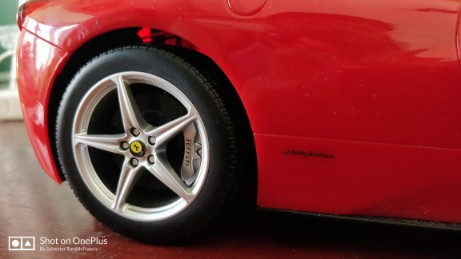aligned_wheel: (55, 44, 251, 238)
